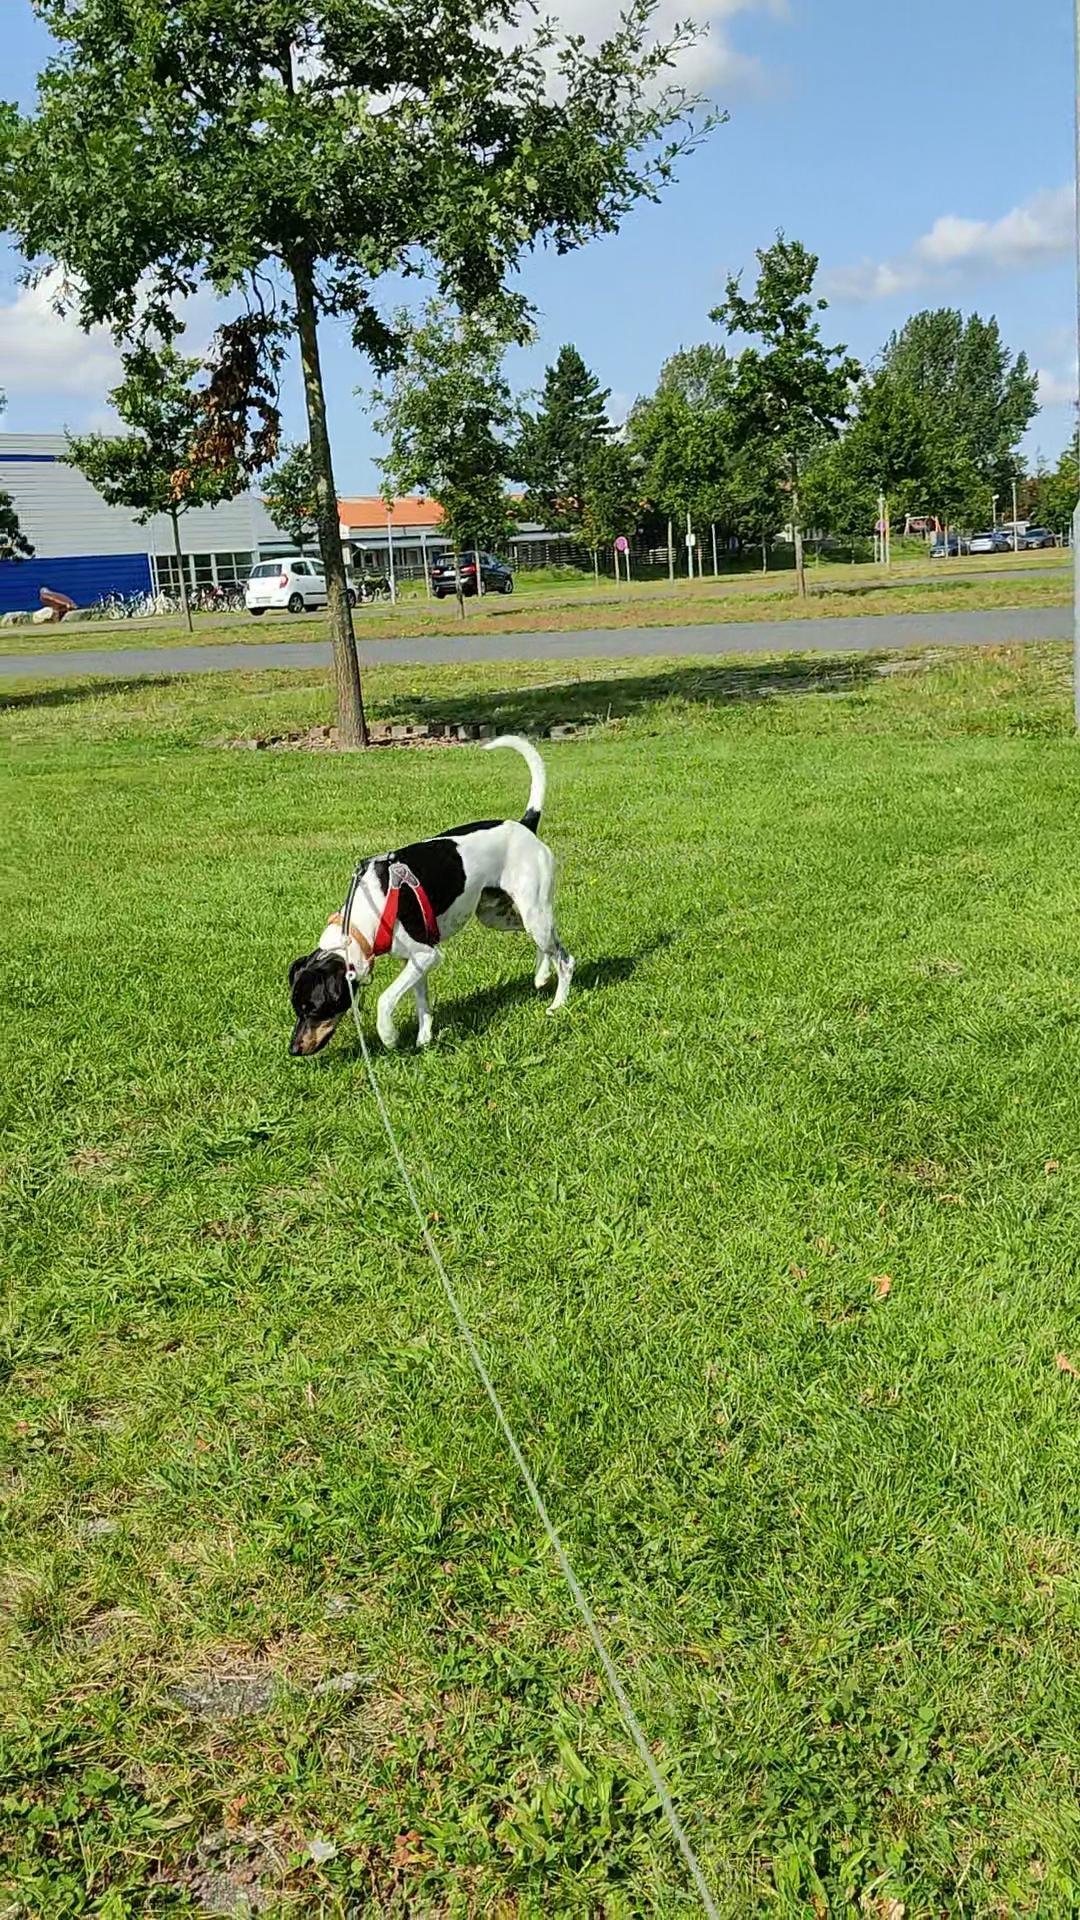Dog: (272, 729, 578, 1068)
